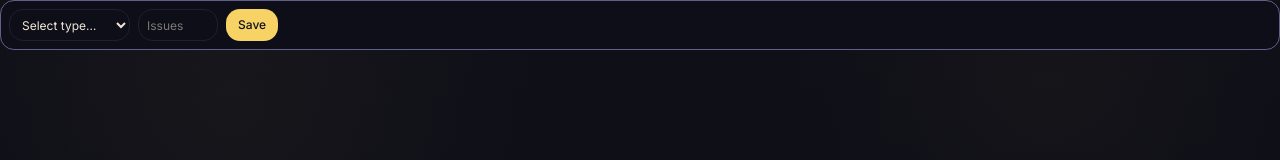
Test: ChoreScheduleConfig › shows error when value is empty
The image size is (1280, 160).
Select "Time (days)" in the dropdown named "Schedule type" at (70, 25), box [9, 9, 130, 41]
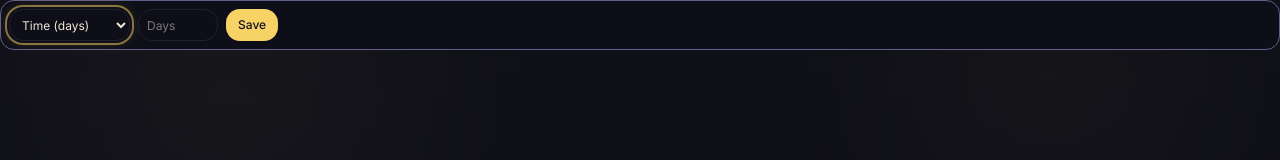
Click the button "Save" at (252, 25), box [226, 9, 278, 41]
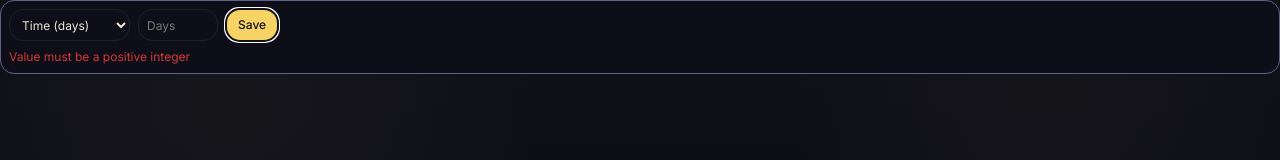
Expected: the text "Value must be a positive integer" is shown, [9, 49, 190, 64]
